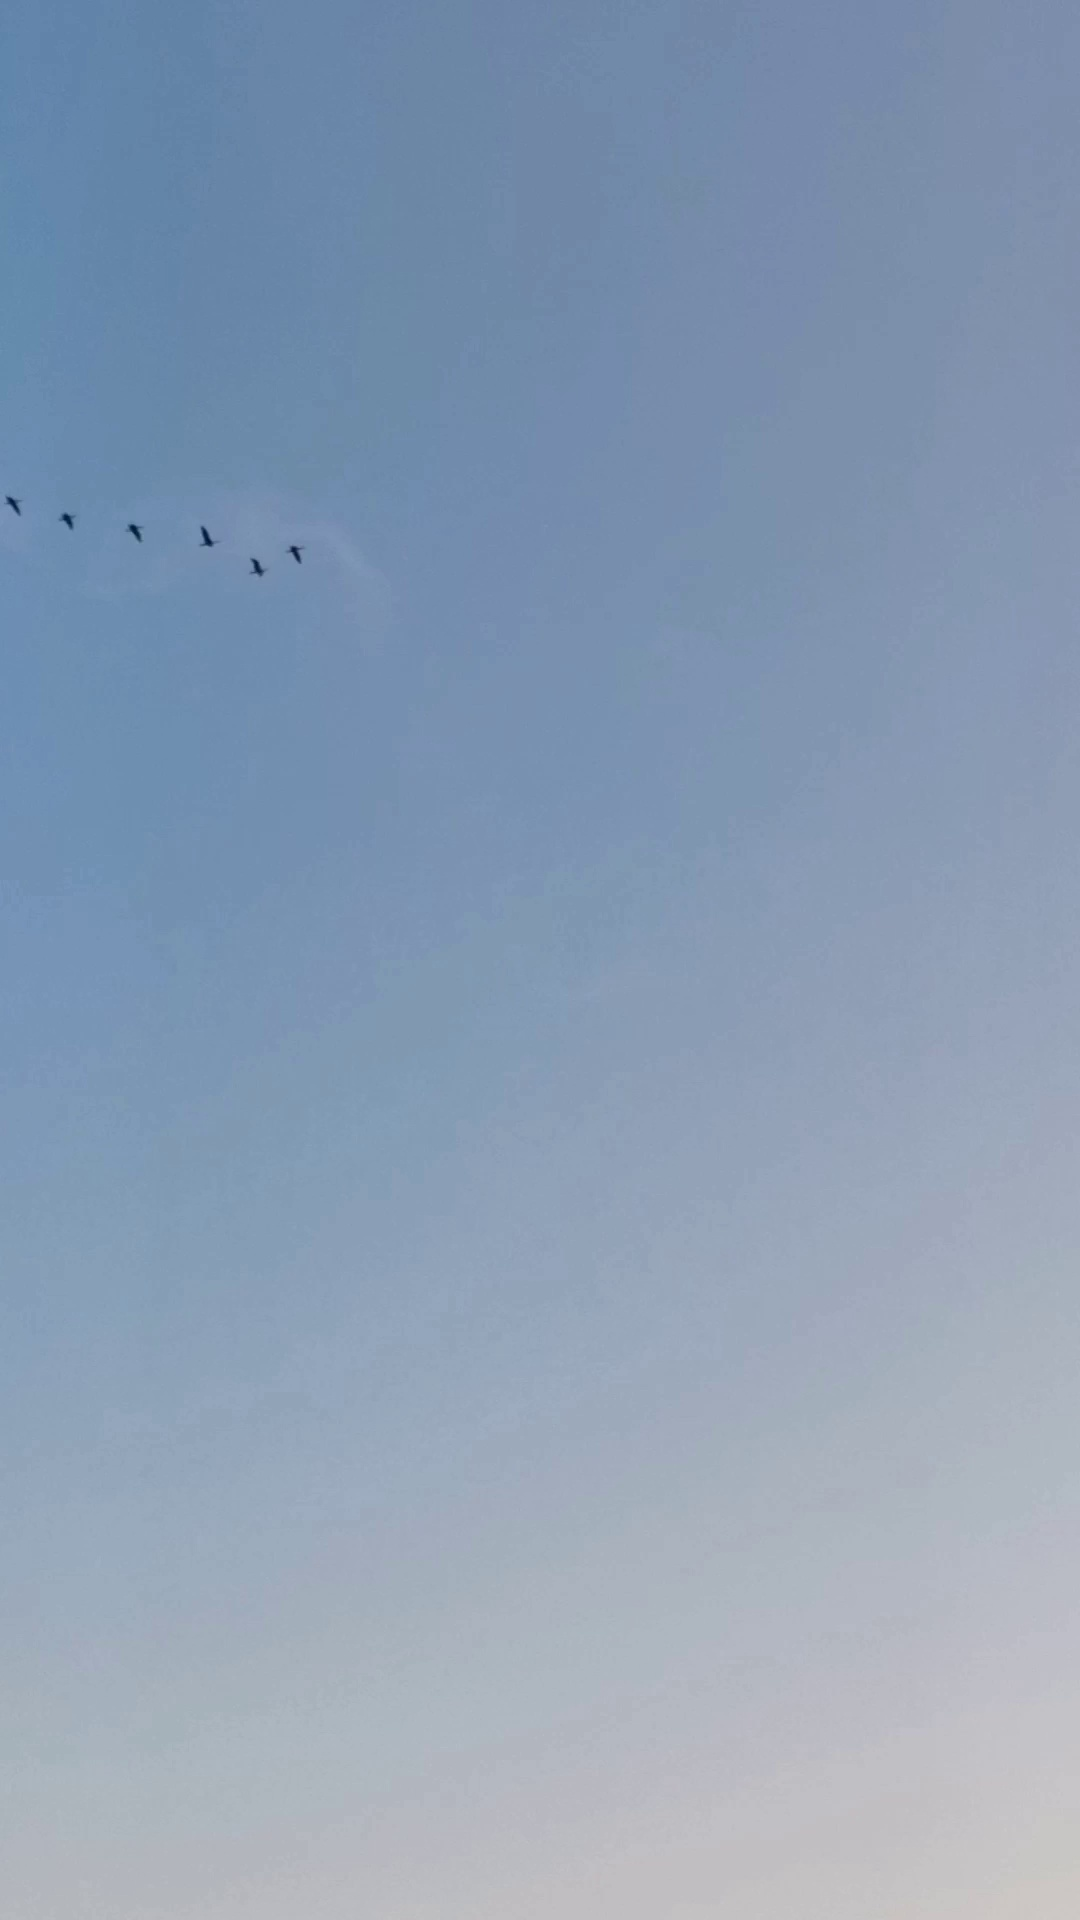bird: (3, 495, 24, 516), (200, 525, 220, 547), (124, 520, 144, 542), (57, 508, 76, 530), (285, 545, 305, 564), (247, 555, 266, 575)
